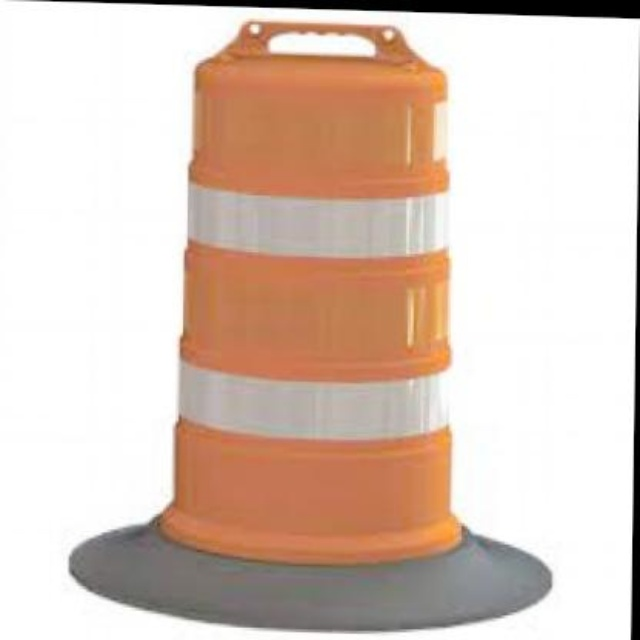obstacle: (135, 20, 489, 578)
